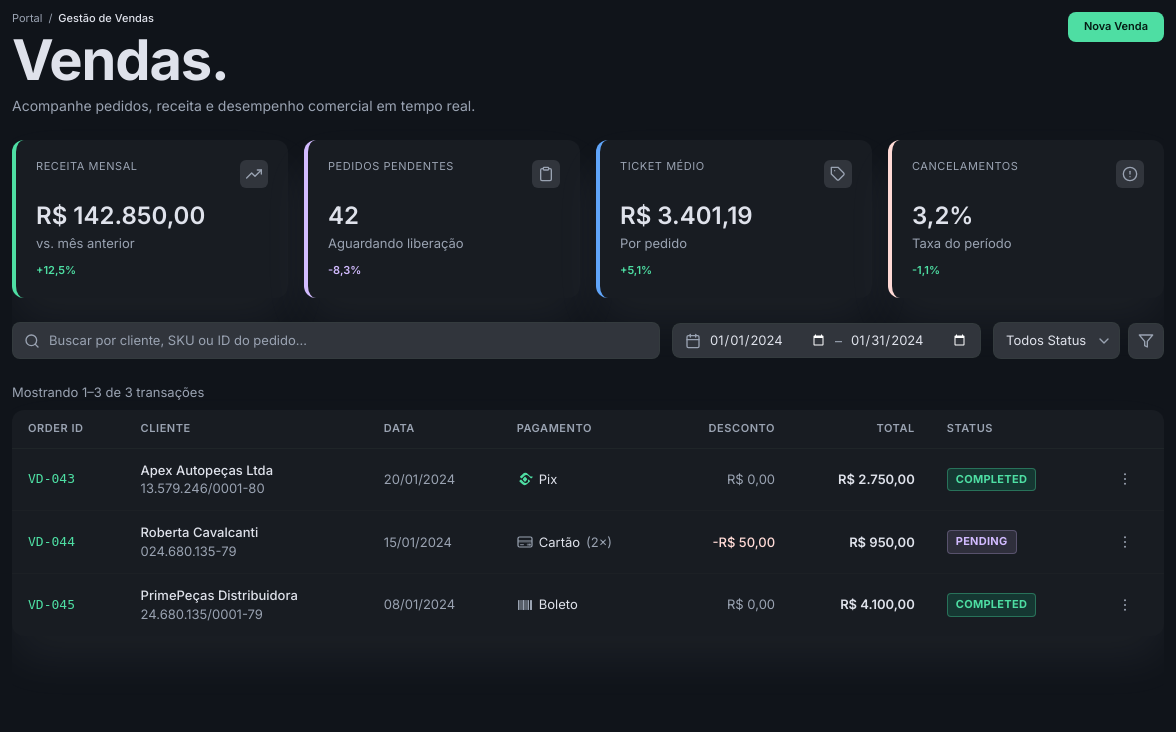
SalesPage — 3.x Filtros (integração) › 3.3 selecionar "Cancelled" sem cancelamentos em janeiro retorna 0 resultados
The width and height of the screenshot is (1176, 732).
Select "Cancelled" in the dropdown named "filtrar por status". click: (1056, 340)
box: [993, 322, 1120, 359]
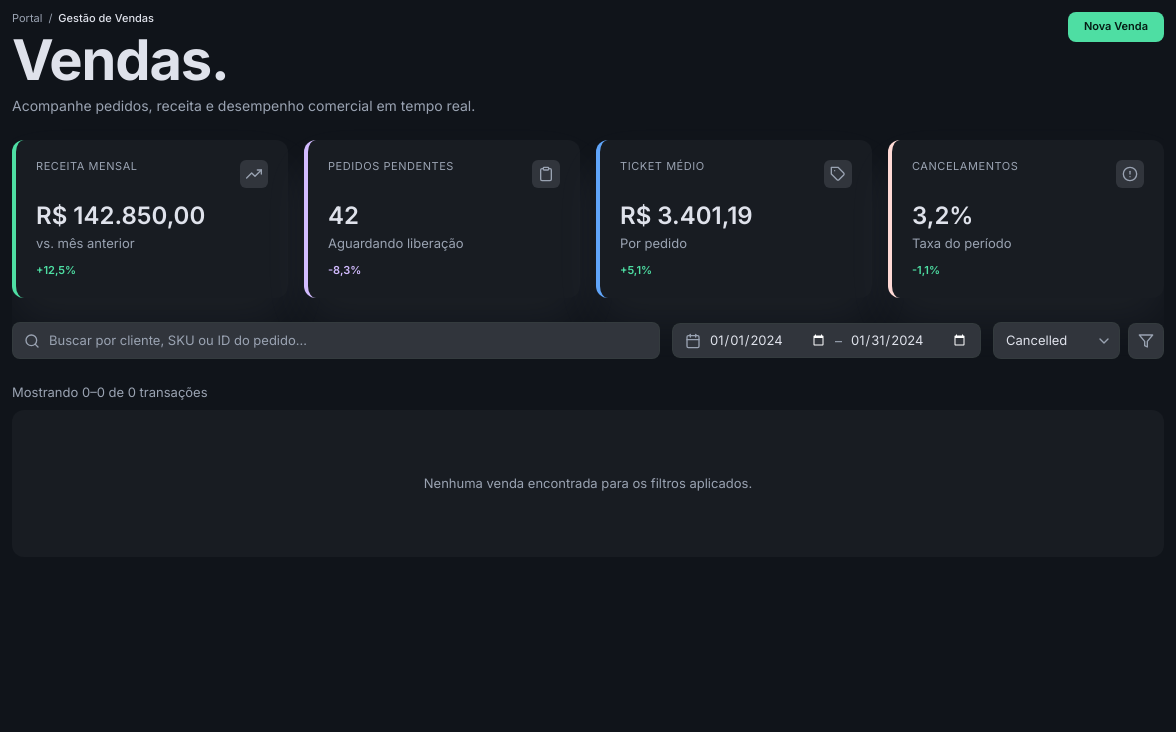
expect the text "Mostrando 0–0 de 0 transações" is shown: met, box [12, 384, 208, 400]
